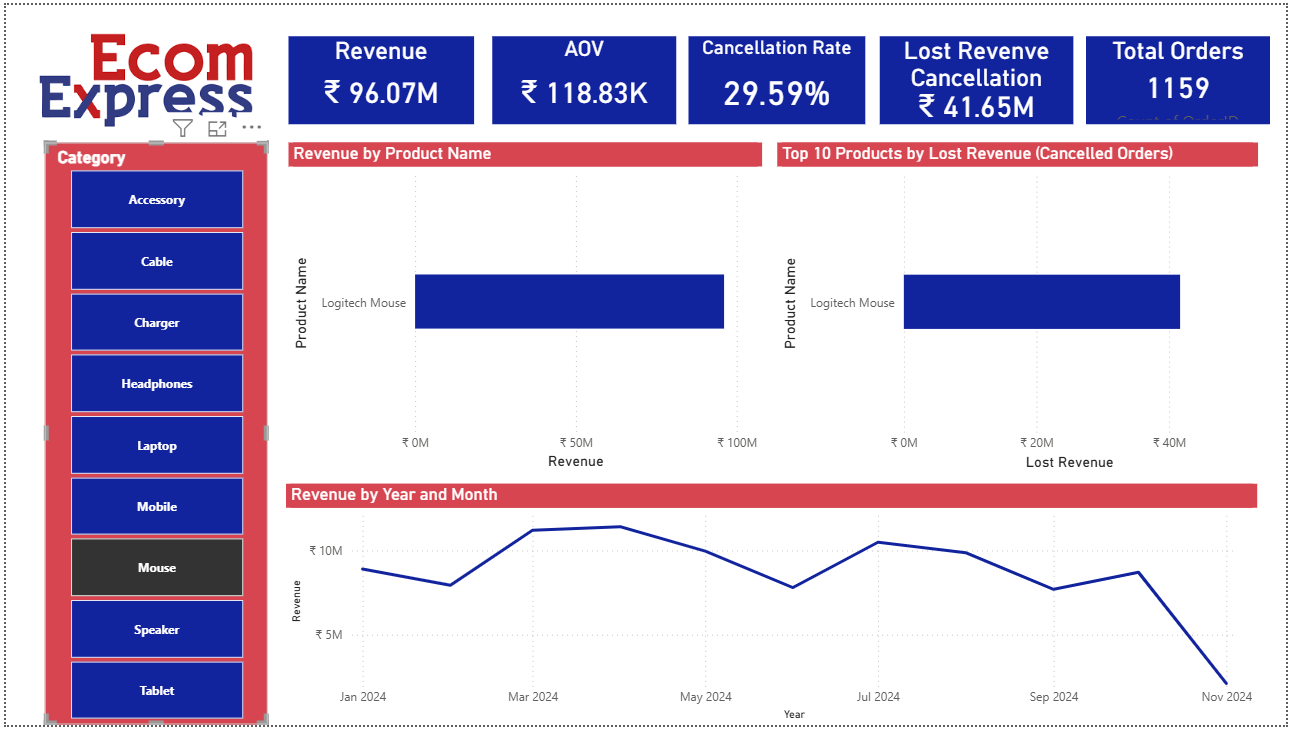

This screenshot's page, from the dashboard's own definition file:
{"tool":"powerbi","page":{"name":"Page 1","canvas":[1280,720],"ordinal":0},"visuals":[{"type":"image","box":[0,13.7,279.9,123.5],"z":0},{"type":"barChart","fields":{"Y":["table.Revenue"],"Category":["Product.Product Name"]},"box":[282.7,137.2,473.4,332.1],"z":1000},{"type":"barChart","title":"Top 10 Products by Lost Revenue (Cancelled Orders)","fields":{"Category":["Product.Product Name"],"Y":["table.lost_rev_cancellation"]},"box":[770.8,137.3,480.4,332.6],"z":2000},{"type":"lineChart","fields":{"Y":["table.Revenue"],"Category":["Orders.Date and time of purchase.Variation.Date Hierarchy.Year","Orders.Date and time of purchase.Variation.Date Hierarchy.Month"]},"box":[279.9,478.9,971.5,241.5],"z":3000},{"type":"card","title":"Revenue","fields":{"Values":["table.Revenue"]},"box":[282.7,31.6,185.2,87.8],"z":4000},{"type":"card","title":"Total Orders","fields":{"Values":["CountNonNull(Orders.OrderID)"]},"box":[1079.9,31.6,183.9,87.8],"z":5000},{"type":"card","title":"AOV","fields":{"Values":["table.AOV"]},"box":[485.8,31.6,183.9,87.8],"z":6000},{"type":"card","title":"Cancellation Rate","fields":{"Values":["table.Cancellation Rate"]},"box":[682,31.6,177,87.8],"z":7000},{"type":"card","title":"Lost Revenve Cancellation","fields":{"Values":["table.lost_rev_cancellation"]},"box":[874.1,31.6,193.5,87.8],"z":8000},{"type":"slicer","fields":{"Values":["Product.Category"]},"box":[38.4,137.2,222.3,583.2],"z":9000}]}

Visuals, with their boxes in screenshot pixels (x1, y1, x2, y2), scaled from the page's 1280x720 canvas onto the 1293x732 screenshot:
image: {"left": 0, "top": 14, "right": 283, "bottom": 139}
barChart - table.Revenue x Product.Product Name: {"left": 286, "top": 139, "right": 764, "bottom": 477}
"Top 10 Products by Lost Revenue (Cancelled Orders)" barChart: {"left": 779, "top": 140, "right": 1264, "bottom": 478}
lineChart - table.Revenue x Orders.Date and time of purchase.Variation.Date Hierarchy.Year: {"left": 283, "top": 487, "right": 1264, "bottom": 731}
"Revenue" card: {"left": 286, "top": 32, "right": 473, "bottom": 121}
"Total Orders" card: {"left": 1091, "top": 32, "right": 1277, "bottom": 121}
"AOV" card: {"left": 491, "top": 32, "right": 677, "bottom": 121}
"Cancellation Rate" card: {"left": 689, "top": 32, "right": 868, "bottom": 121}
"Lost Revenve Cancellation" card: {"left": 883, "top": 32, "right": 1078, "bottom": 121}
slicer - Product.Category: {"left": 39, "top": 139, "right": 263, "bottom": 731}
